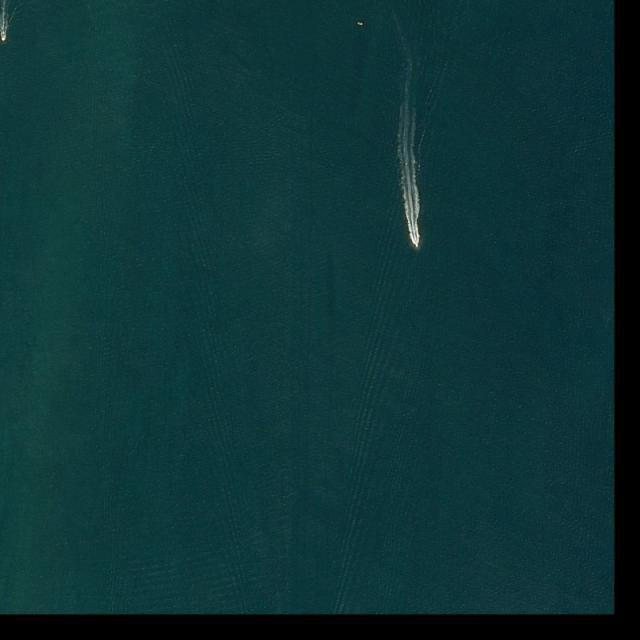ship: (0, 31, 7, 42), (414, 242, 420, 249), (357, 22, 363, 26)
